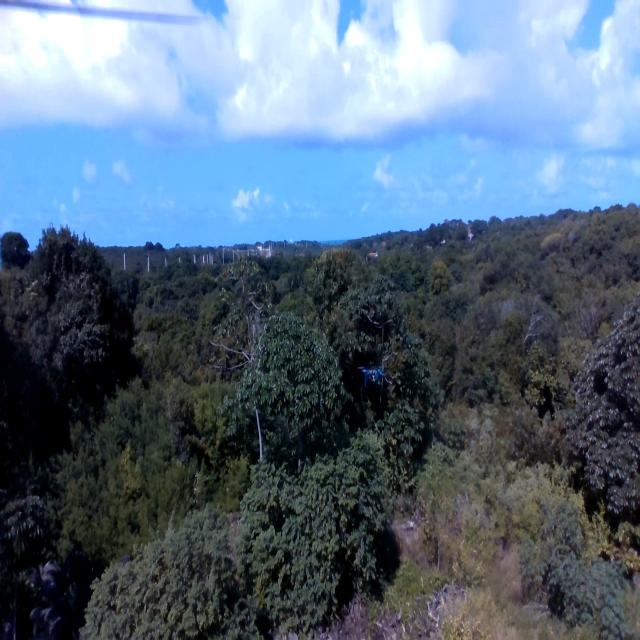-uav-: (353, 358, 386, 392)
